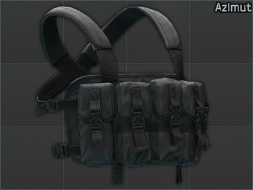Azimut SS Zhuk Chest Harness SURPAT: (0, 0, 253, 190)
